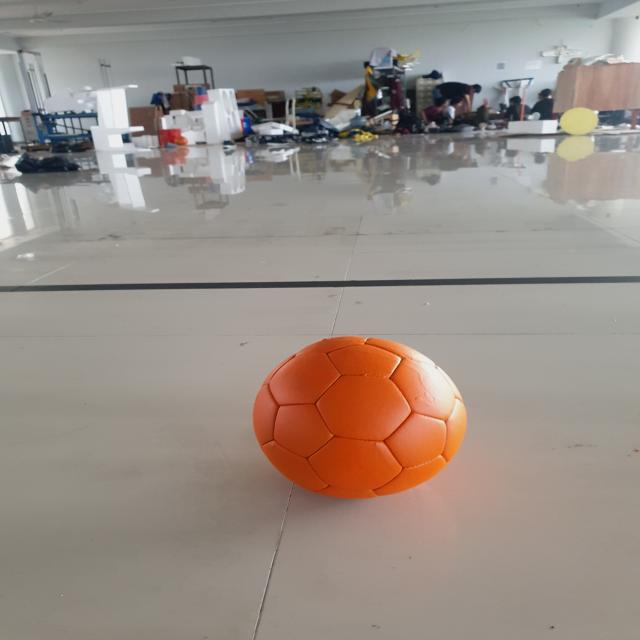bola: (244, 328, 478, 508)
